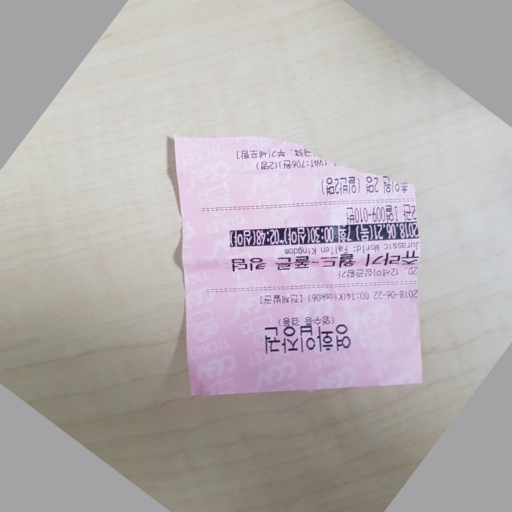Paper_2: (169, 147, 440, 399)
